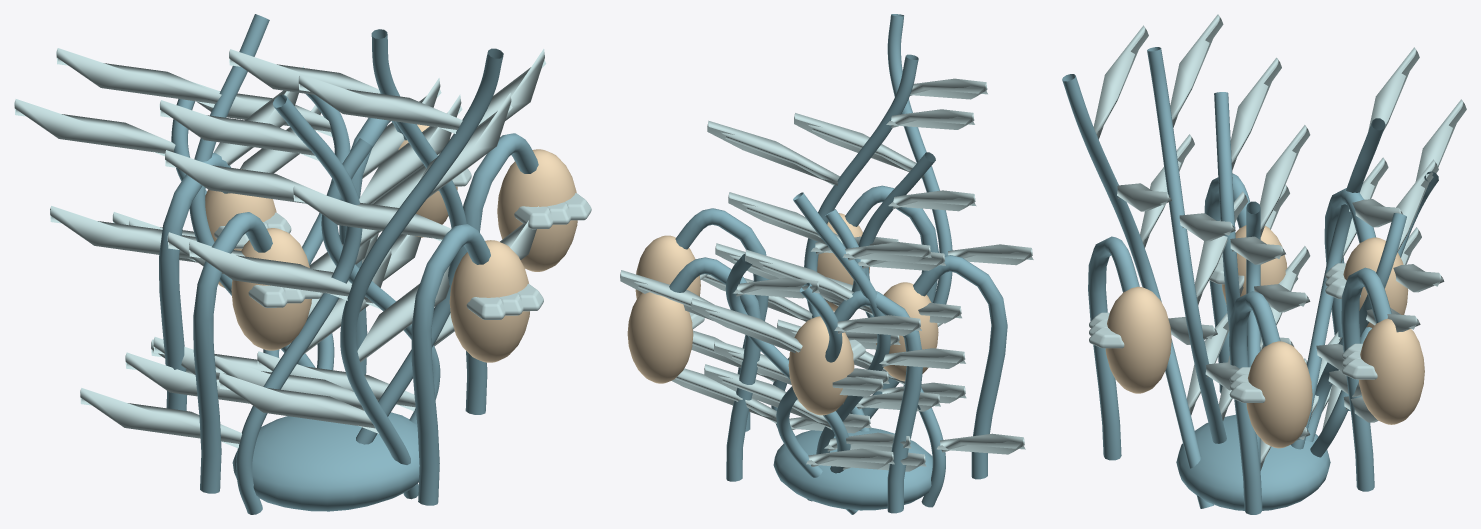
Rendered from bio_aquatic_frond_03_near.glb.
3 views of the same model, side by side, from view 1: azimuth 30°, elevation 25°; view 2: azimuth 150°, elevation 25°; view 3: azimuth 270°, elevation 25° (orthographic). The views are drawn at different scales.
Visible parts, largest first — view 1: Ruffled aquatic blade.010, Holdfast, Ruffled aquatic blade.020, Ruffled aquatic blade.025, Ruffled aquatic blade.005, Flexible stipe.002, Flexible stipe.004, Arched fruit stem.002, Arched fruit stem.004, Pendant spore capsule.002, Ruffled aquatic blade, Ruffled aquatic blade.030 (+16 smaller); view 2: Ruffled aquatic blade.030, Ruffled aquatic blade.005, Holdfast, Ruffled aquatic blade.025, Ruffled aquatic blade.020, Ruffled aquatic blade.010, Ruffled aquatic blade.015, Pendant spore capsule.003, Arched fruit stem.004, Pendant spore capsule.001, Arched fruit stem.001, Arched fruit stem.003 (+13 smaller); view 3: Holdfast, Flexible stipe.005, Ruffled aquatic blade.010, Pendant spore capsule.002, Pendant spore capsule, Flexible stipe.002, Pendant spore capsule.003, Ruffled aquatic blade.025, Arched fruit stem.002, Arched fruit stem, Arched fruit stem.003, Ruffled aquatic blade.005 (+17 smaller).
Part boxes in pixels (x1,y1,x2,y2): Ruffled aquatic blade.010: [189, 74, 512, 433]; Holdfast: [232, 412, 419, 511]; Ruffled aquatic blade.020: [80, 94, 462, 448]; Ruffled aquatic blade.025: [214, 49, 546, 410]; Ruffled aquatic blade.005: [50, 48, 370, 379]; Flexible stipe.002: [340, 48, 503, 499]; Flexible stipe.004: [236, 94, 362, 514]; Arched fruit stem.002: [411, 224, 490, 505]; Arched fruit stem.004: [193, 212, 272, 493]; Pendant spore capsule.002: [449, 240, 529, 362]; Ruffled aquatic blade: [164, 150, 454, 410]; Ruffled aquatic blade.030: [14, 99, 421, 369]; Ruffled aquatic blade.030: [671, 298, 921, 469]; Ruffled aquatic blade.005: [714, 242, 965, 451]; Holdfast: [773, 427, 932, 510]; Ruffled aquatic blade.025: [701, 109, 974, 411]; Ruffled aquatic blade.020: [728, 190, 1025, 454]; Ruffled aquatic blade.010: [794, 78, 1033, 403]; Ruffled aquatic blade.015: [620, 270, 926, 471]; Pendant spore capsule.003: [627, 292, 693, 383]; Arched fruit stem.004: [913, 255, 1007, 479]; Pendant spore capsule.001: [788, 316, 854, 415]; Arched fruit stem.001: [834, 290, 922, 513]; Arched fruit stem.003: [669, 257, 760, 481]; Holdfast: [1176, 414, 1330, 510]; Flexible stipe.005: [1147, 47, 1226, 443]; Ruffled aquatic blade.010: [1093, 25, 1229, 415]; Pendant spore capsule.002: [1105, 286, 1171, 393]; Pendant spore capsule: [1246, 341, 1312, 448]; Flexible stipe.002: [1062, 74, 1213, 508]; Pendant spore capsule.003: [1359, 318, 1424, 424]; Ruffled aquatic blade.025: [1170, 14, 1247, 420]; Arched fruit stem.002: [1088, 236, 1139, 460]; Arched fruit stem: [1229, 291, 1280, 514]; Arched fruit stem.003: [1341, 267, 1391, 491]; Ruffled aquatic blade.005: [1309, 47, 1419, 420].
Bounding box in the file's own units: 1.89 × 1.89 × 1.57.
